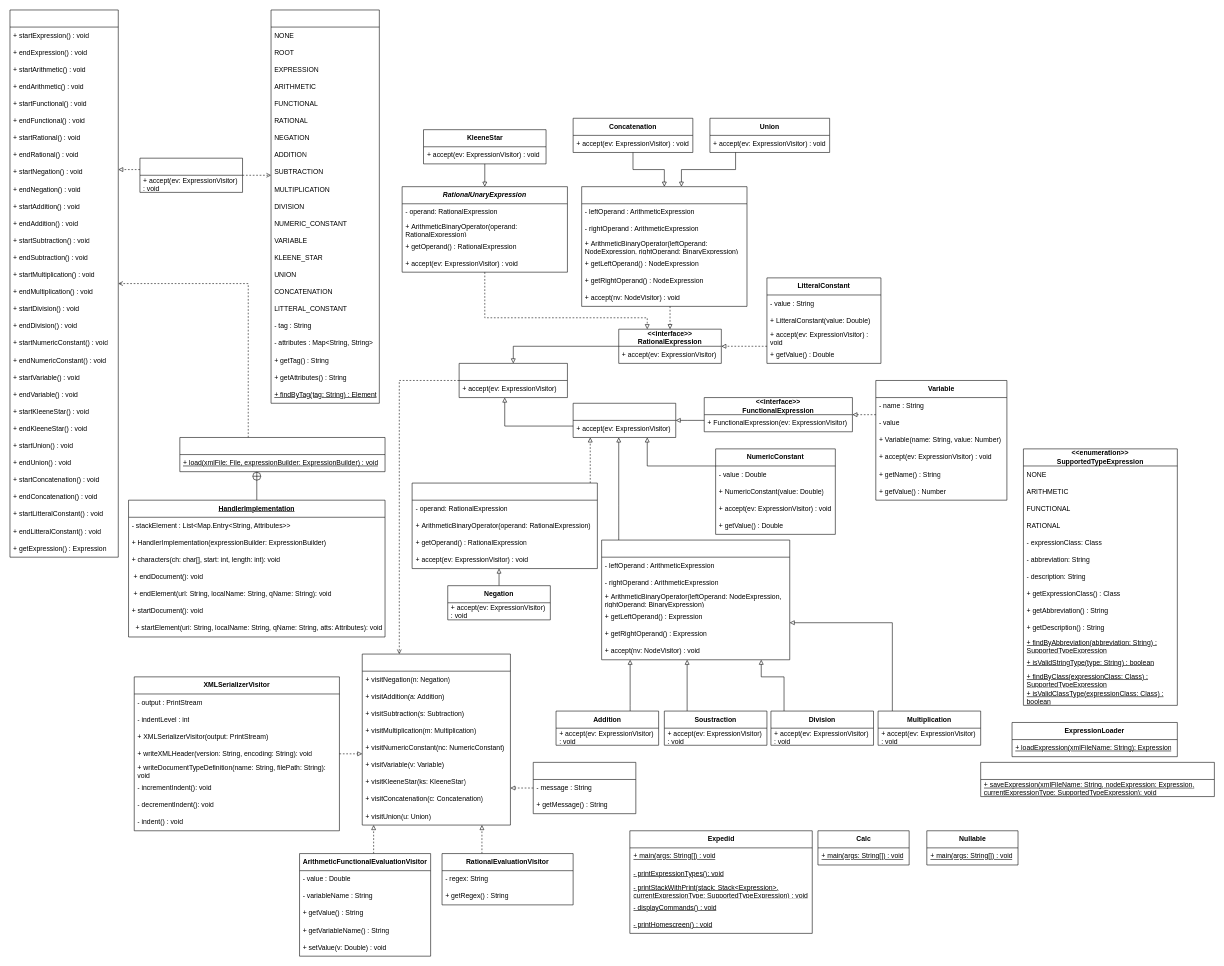
Some shapes in this 1224 by 966 pixel diagram are drawn without their labels. The shapes that lost their labels are listed below. From the top down, each one's box as (x1, y1, x2, y2) in pixels, then its label:
(139, 158, 243, 192): StdExpressionBuilder
(270, 9, 379, 403): <<enumeration>> Element
(581, 186, 747, 306): RationalBinaryExpression
(9, 9, 118, 557): <<interface>> ExpressionBuilder
(459, 363, 567, 398): <<interface>> Expression
(573, 403, 676, 437): <<interface>> ArithmeticExpression
(179, 437, 385, 472): XMLExpressionLoader
(412, 483, 597, 569): ArithmeticUnaryExpression
(601, 540, 790, 660): ArithmeticBinaryExpression
(362, 654, 510, 825): <<interface>> ExpressionVisitor
(533, 762, 636, 814): PrintVisitor
(980, 762, 1214, 797): ExpressionSaver
